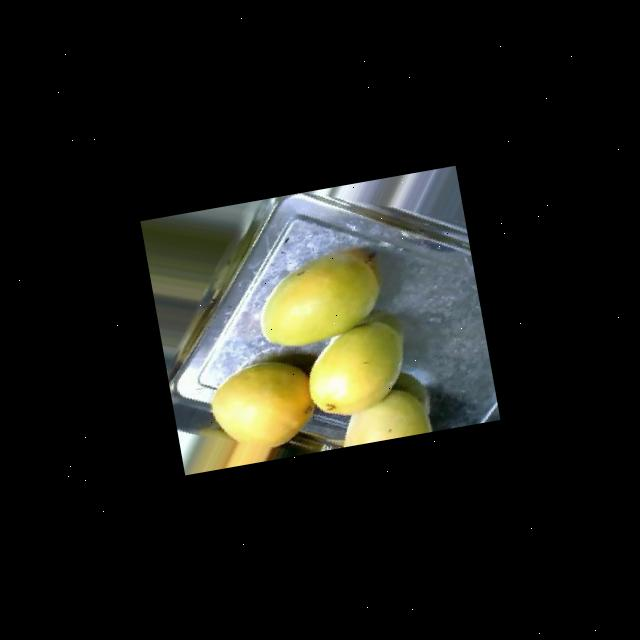Mango: (250, 246, 388, 353), (206, 354, 322, 458), (299, 318, 415, 422), (335, 384, 433, 447)
